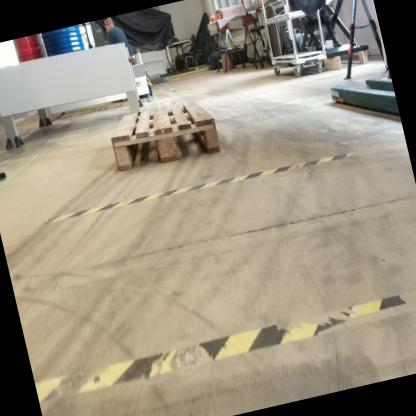BoxFace: (104, 93, 226, 173)
